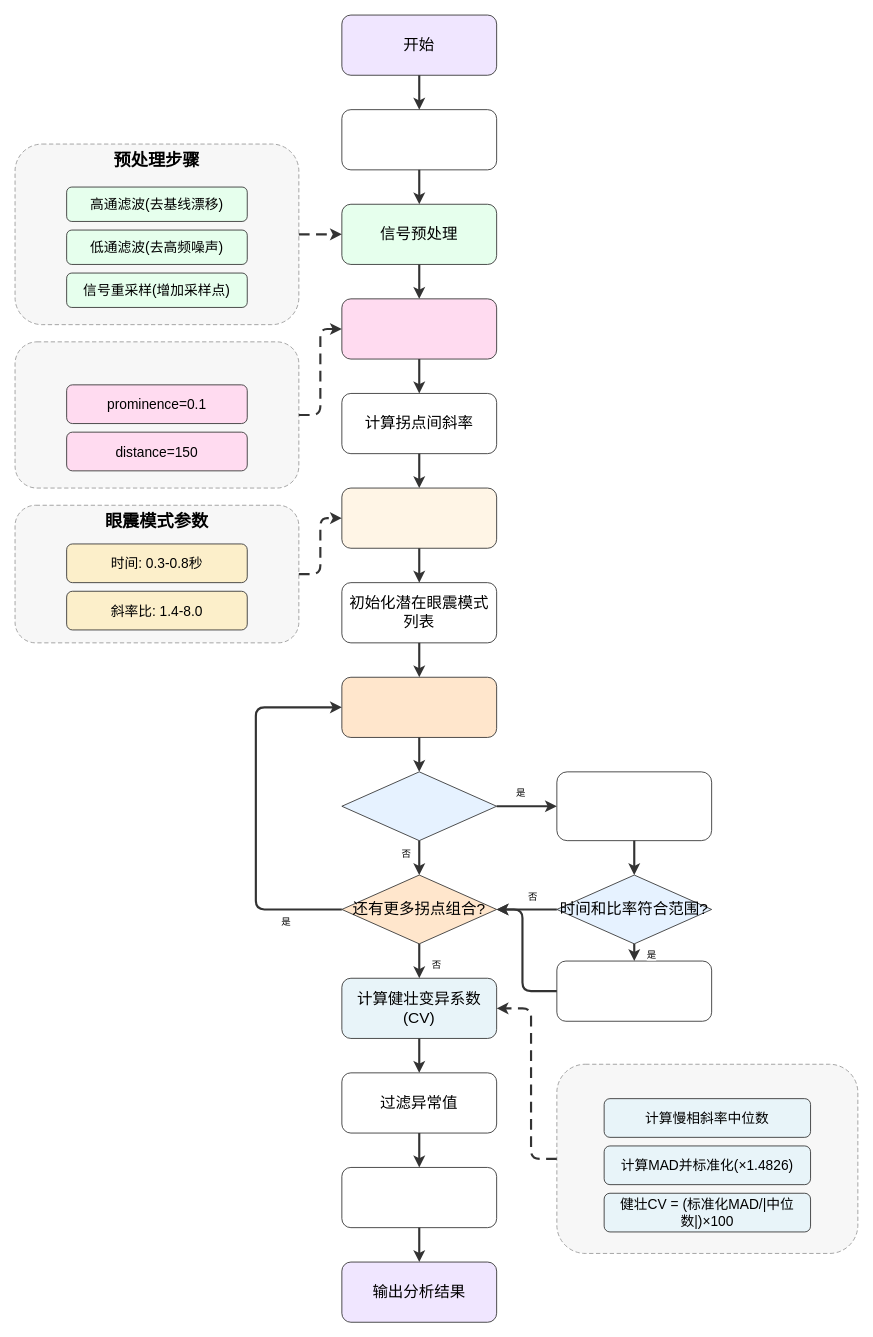
The diagram is 873 pixels wide and 1337 high, and some of its shapes have lost their labels. The shapes that lost their labels are listed below. From the top down, each one's box as (x1, y1, x2, y2) in pixels, then its label:
(341, 109, 497, 170): 加载plist数据
(341, 298, 497, 359): 拐点检测
(14, 341, 299, 488): 拐点检测参数
(341, 487, 497, 548): 眼震模式识别
(341, 676, 497, 737): 遍历所有拐点组合
(341, 771, 497, 841): 拐点组合符合条件?
(556, 771, 712, 841): 计算斜率比率
(556, 960, 712, 1021): 添加到潜在模式
(556, 1063, 858, 1253): 基于中位数的健壮变异系数(CV)计算
(341, 1167, 497, 1228): 确定SPV和方向
